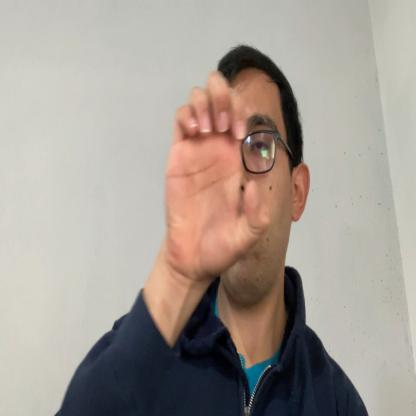E: (164, 70, 270, 277)
